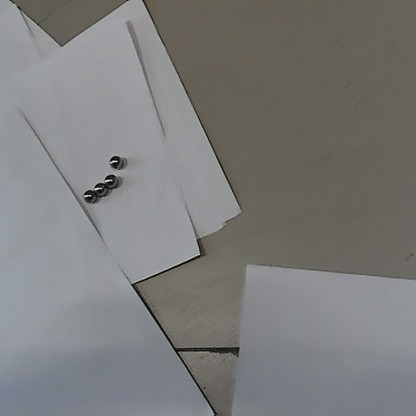ironball: (100, 171, 119, 189), (91, 181, 109, 196), (107, 153, 122, 170), (81, 187, 96, 204)
